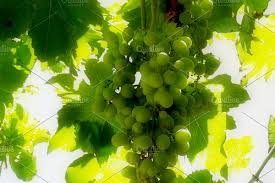grapes: (106, 35, 199, 177)
